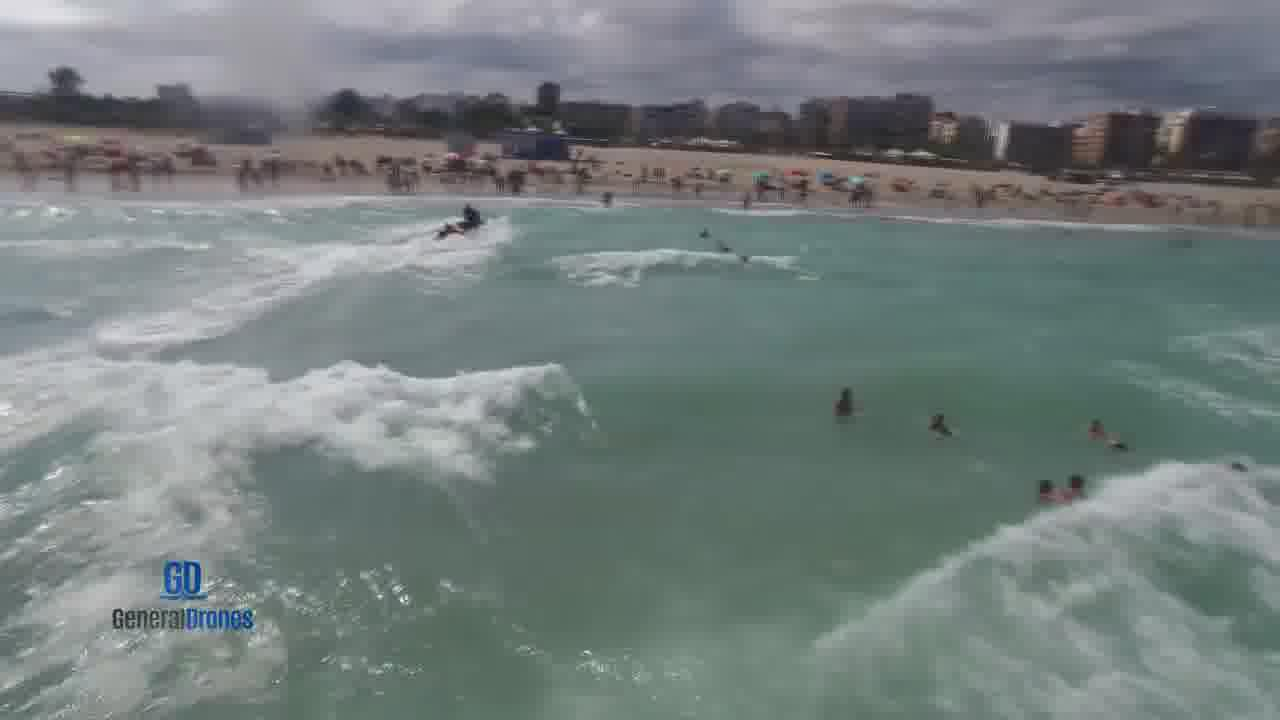human: (911, 400, 970, 447), (817, 375, 868, 426), (1077, 413, 1135, 453), (1024, 468, 1076, 507), (1056, 453, 1098, 497)
